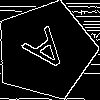A: (20, 26, 77, 83)
